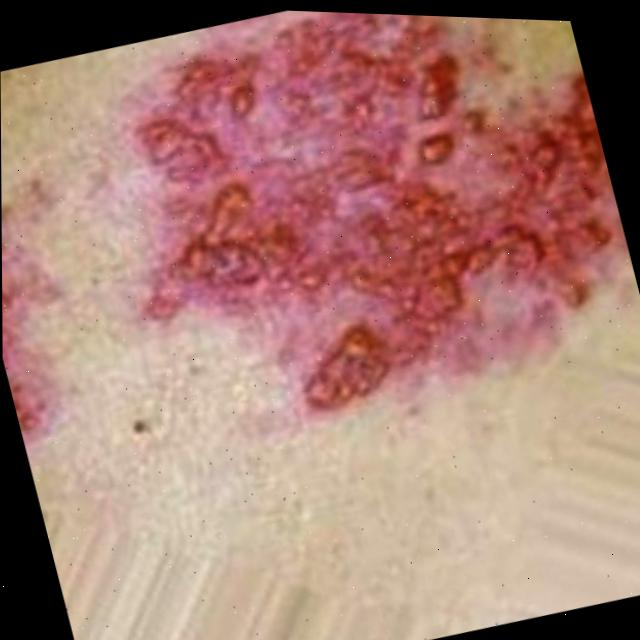Shingles: (94, 3, 640, 470), (2, 207, 65, 466)
